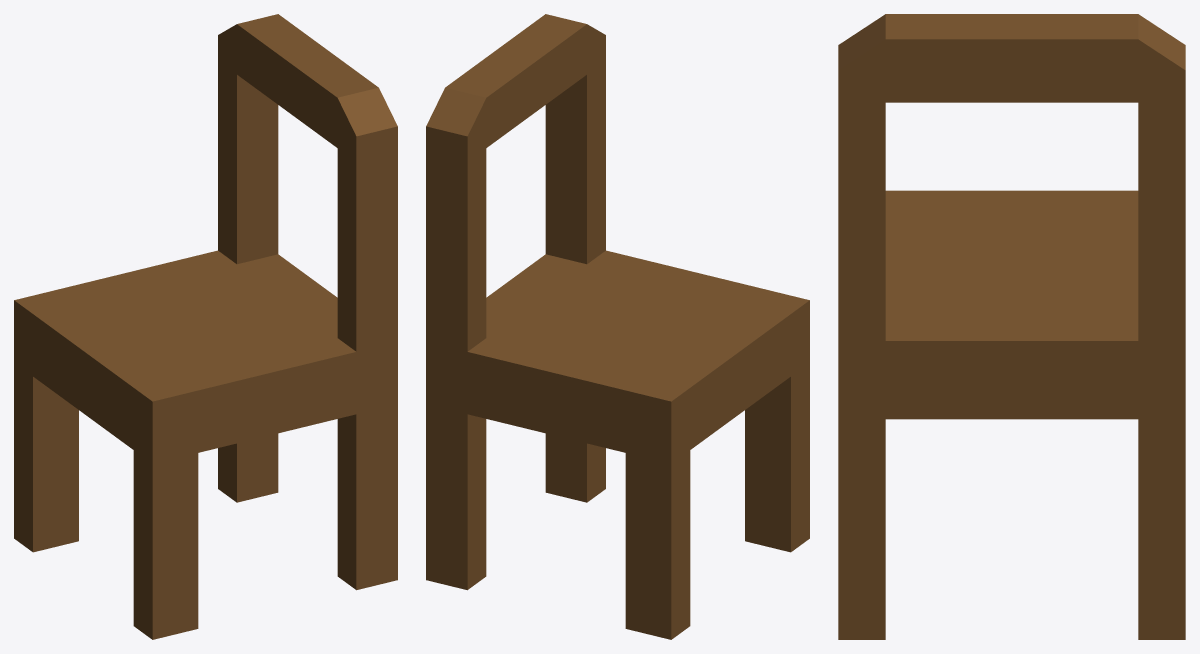
File: chair.fbx
3 views of the same model, side by side, from view 1: azimuth 30°, elevation 25°; view 2: azimuth 150°, elevation 25°; view 3: azimuth 270°, elevation 25° (orthographic). The views are drawn at different scales.
Visible parts, largest first — view 1: Chair; view 2: Chair; view 3: Chair.
Boxes of the visible parts, x1,y1,x2,y2 form: Chair: (14, 14, 397, 639); Chair: (426, 14, 809, 639); Chair: (838, 14, 1185, 639).
Bounding box in the file's own units: 97.87 × 183 × 95.74.
